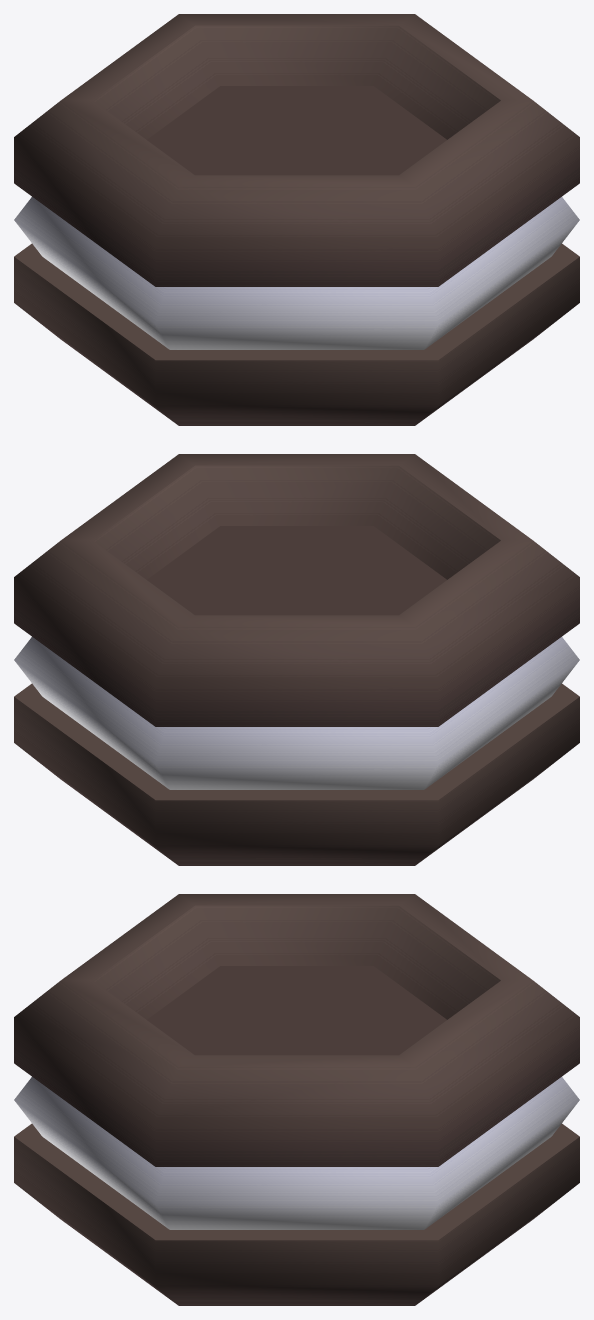
Rendered from cookie.glb.
The picture shows the model from 3 angles, top to bottom: view 1: azimuth 30°, elevation 25°; view 2: azimuth 150°, elevation 25°; view 3: azimuth 270°, elevation 25°; orthographic projection.
Visible parts, largest first — view 1: cookie-chocolate; view 2: cookie-chocolate; view 3: cookie-chocolate.
Part boxes in pixels (<box>): cookie-chocolate: <box>14,14,579,425</box>; cookie-chocolate: <box>14,454,579,865</box>; cookie-chocolate: <box>14,894,579,1305</box>.
Bounding box in the file's own units: 0.1213 × 0.0652 × 0.14.
Materials: 1 (1 with a texture image).
